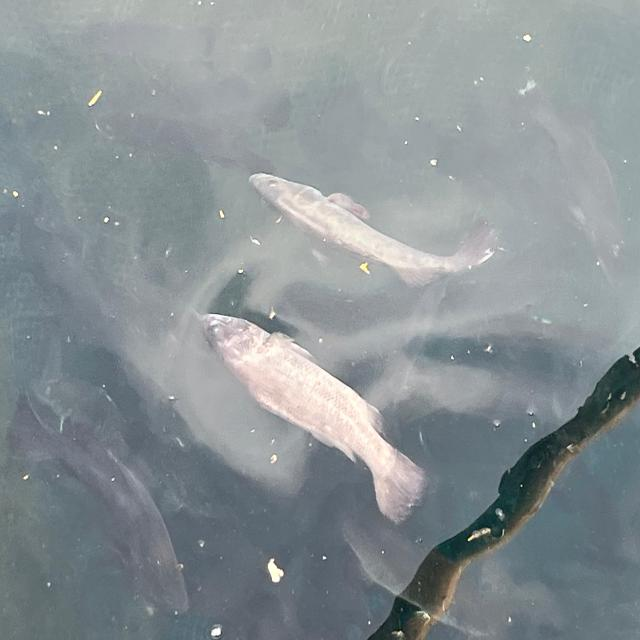ikan: (195, 310, 428, 526), (248, 170, 500, 288)
